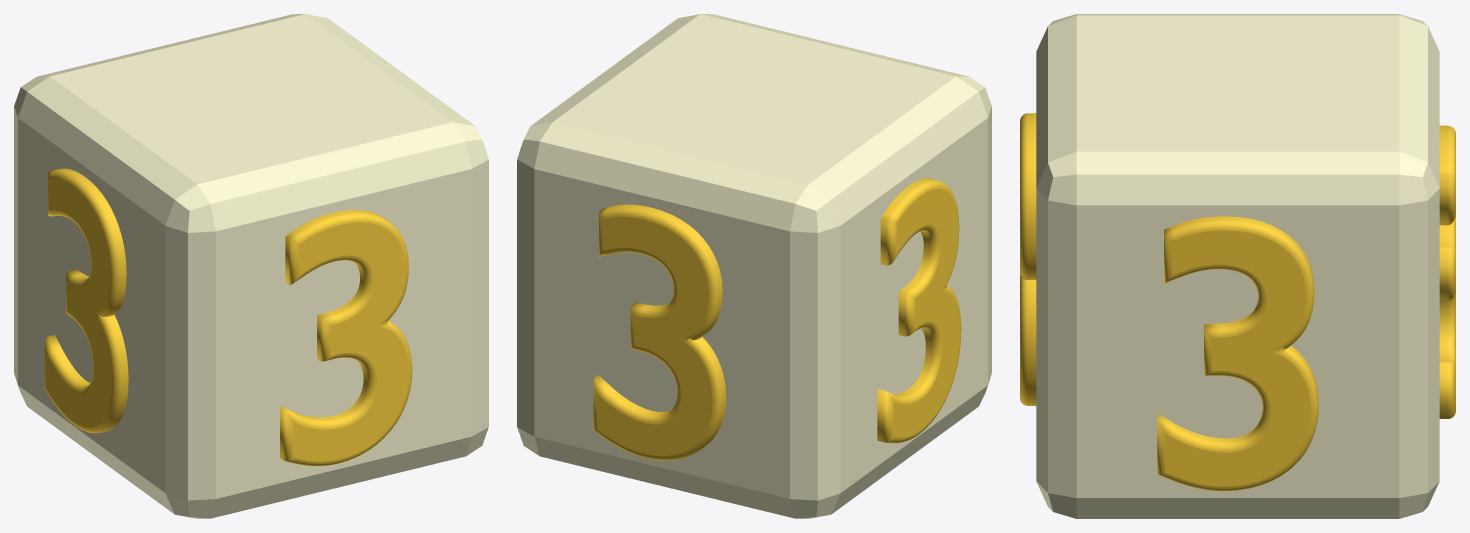
3 renders of one model, left to right at view 1: azimuth 30°, elevation 25°; view 2: azimuth 150°, elevation 25°; view 3: azimuth 270°, elevation 25°, orthographic. The views are drawn at different scales.
Visible parts, largest first — view 1: 3; view 2: 3; view 3: 3.
Boxes of the visible parts, box(x1,y1,x2,y2) form: 3: box(14, 14, 488, 518); 3: box(517, 14, 991, 518); 3: box(1020, 14, 1455, 518).
Size of the model in its own units: 216 by 200 by 216.
